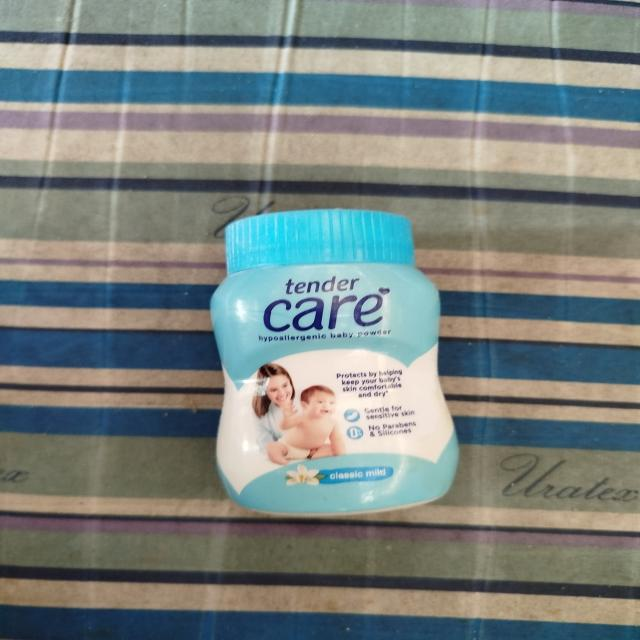plastic: (190, 196, 484, 534)
